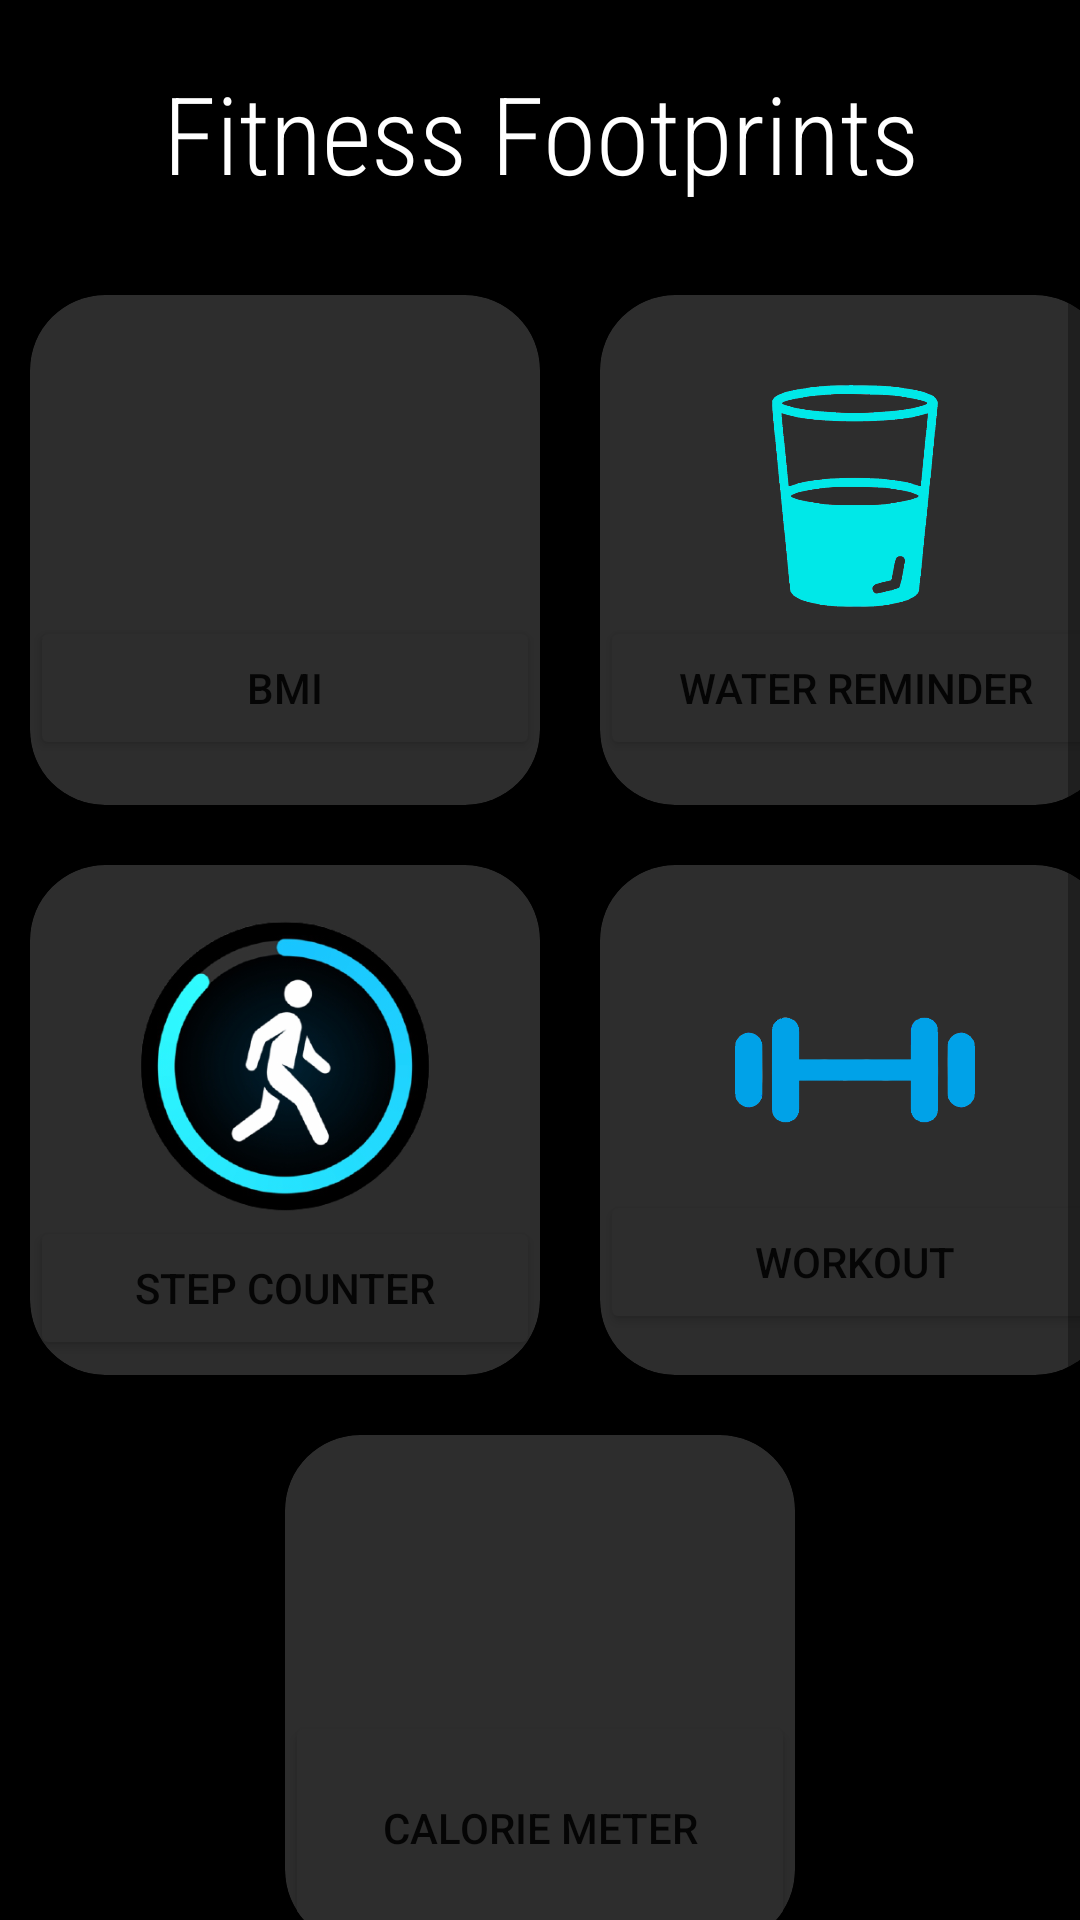

Named icons in this screenshot (1080×1920) and their centers, (x=x, y=y):
gym: (x=855, y=1070)
